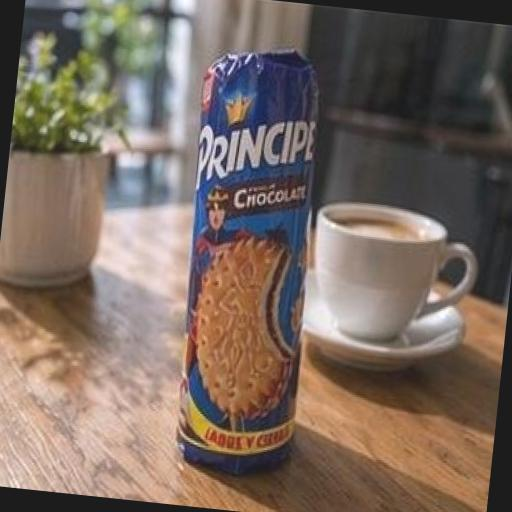prince: (135, 24, 406, 512)
